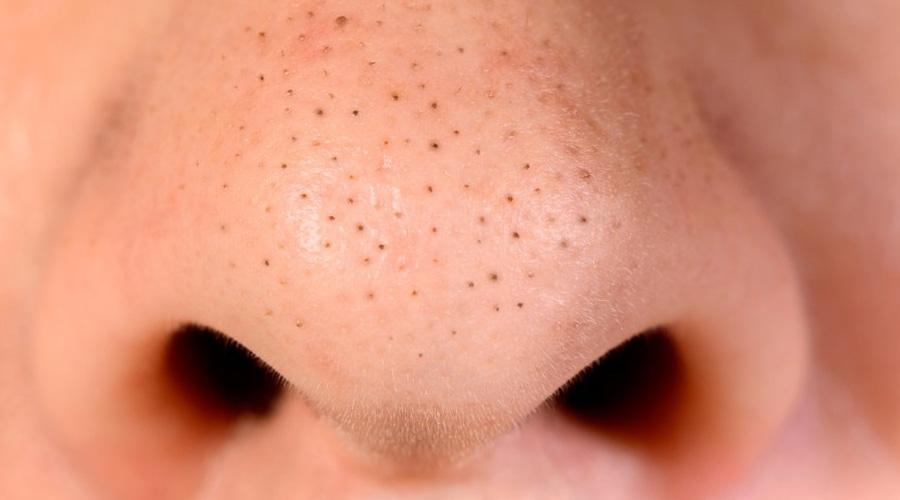Acne: (185, 0, 643, 339)
